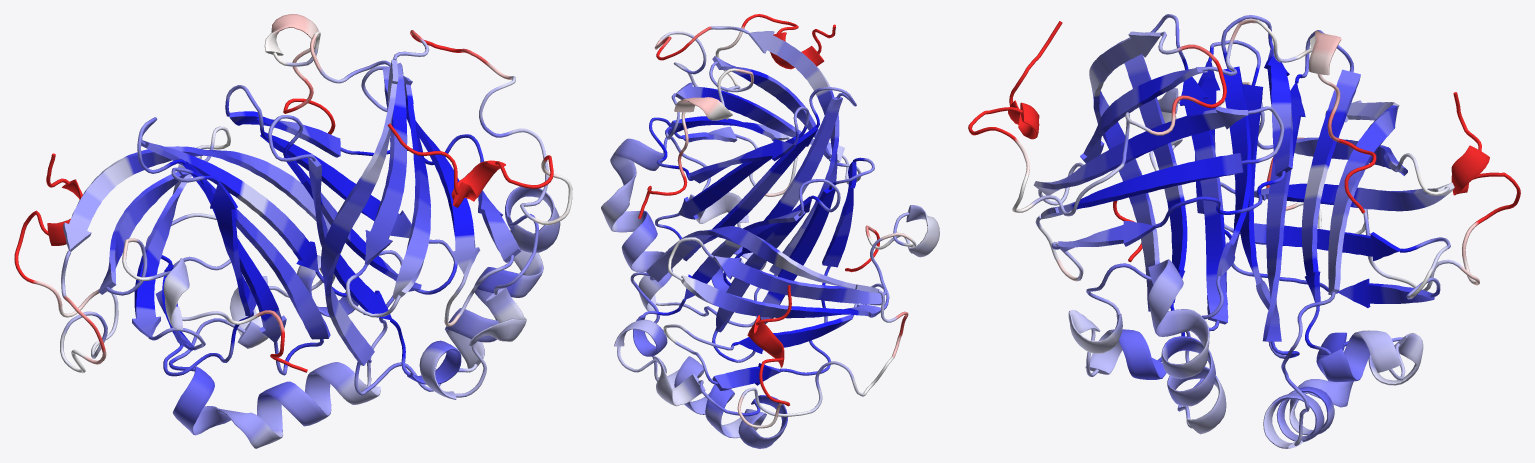
Rendered from rmsf.gltf.
3 views of the same model, side by side, from view 1: azimuth 30°, elevation 25°; view 2: azimuth 150°, elevation 25°; view 3: azimuth 270°, elevation 25° (orthographic). The views are drawn at different scales.
Parts seen in each view (by area): view 1: node-geom1, node-geom0, node-geom2; view 2: node-geom0, node-geom1, node-geom2; view 3: node-geom1, node-geom0, node-geom2.
Part boxes in pixels (x1,y1,x2,y2): node-geom1: (14,14,572,399); node-geom0: (15,117,402,448); node-geom2: (387,30,569,222); node-geom0: (614,157,939,448); node-geom1: (601,14,905,425); node-geom2: (654,14,835,90); node-geom1: (968,14,1516,434); node-geom0: (1113,30,1520,448); node-geom2: (969,21,1223,216).
Bounding box in the file's own units: 50.01 × 48.56 × 55.89.
